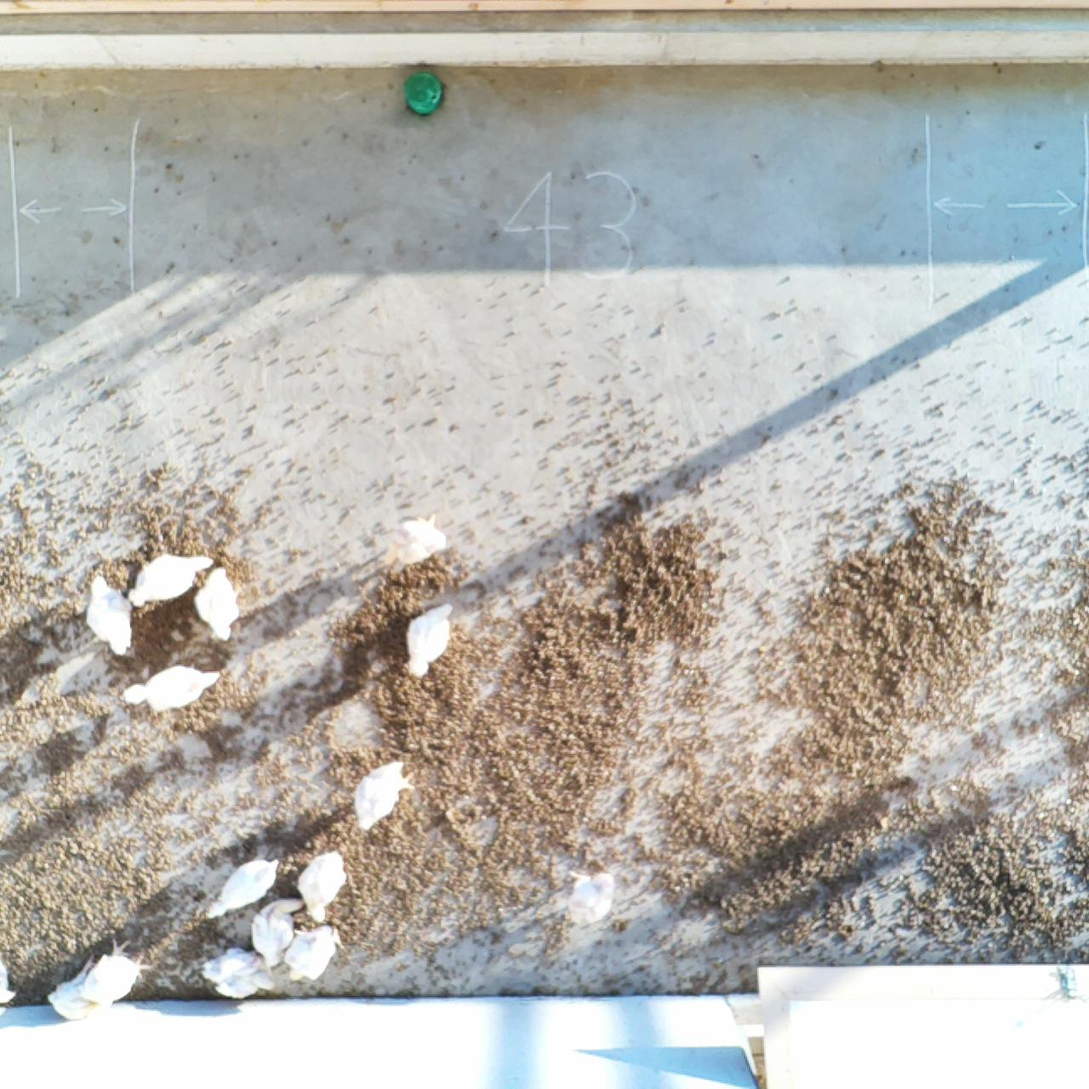chicken: (123, 543, 220, 614), (117, 657, 224, 721), (201, 851, 284, 924), (80, 570, 144, 661), (402, 594, 463, 683), (77, 941, 150, 1011), (39, 963, 113, 1029), (248, 895, 311, 972), (189, 560, 247, 641), (296, 842, 354, 922), (197, 944, 278, 1001), (351, 752, 410, 830), (389, 505, 454, 575), (284, 915, 347, 984), (559, 865, 618, 932)
